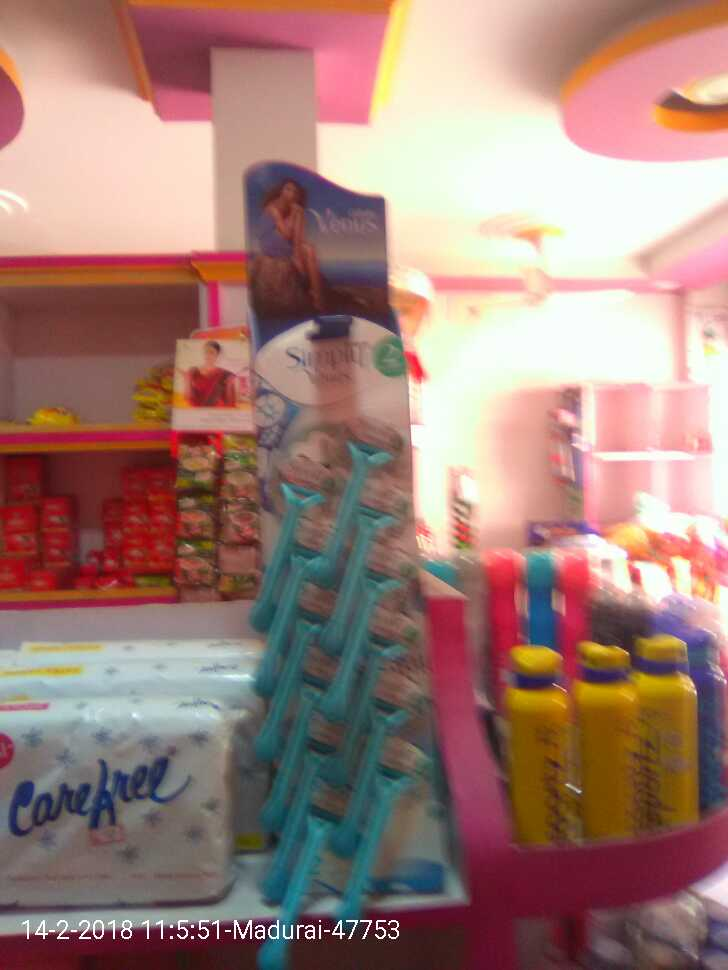reject: (474, 260, 593, 360)
